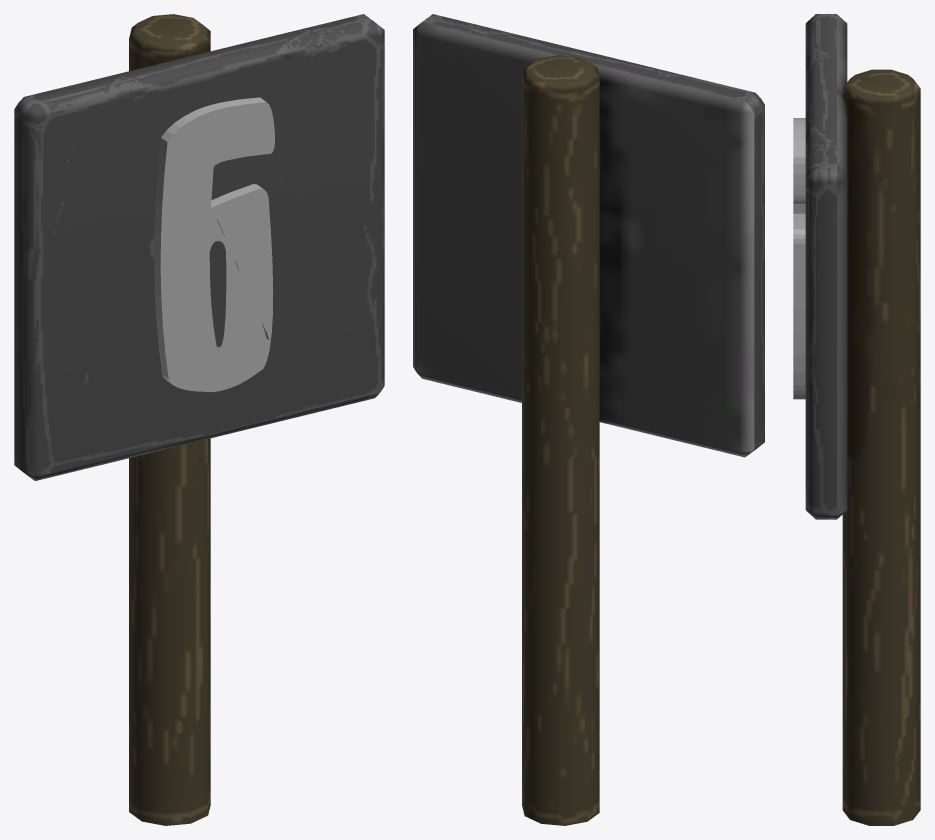
Rendered from sign6.fbx.
The picture shows the model from 3 angles, left to right: view 1: azimuth 30°, elevation 25°; view 2: azimuth 150°, elevation 25°; view 3: azimuth 270°, elevation 25°; orthographic projection. The views are drawn at different scales.
Parts seen in each view (by area): view 1: sign6; view 2: sign6; view 3: sign6.
Boxes of the visible parts, <box> form: sign6: <box>14,14,384,825</box>; sign6: <box>413,14,764,825</box>; sign6: <box>793,14,920,825</box>.
Size of the model in its own units: 1 by 2.07 by 0.3284.
Materials: 1 (1 with a texture image).
